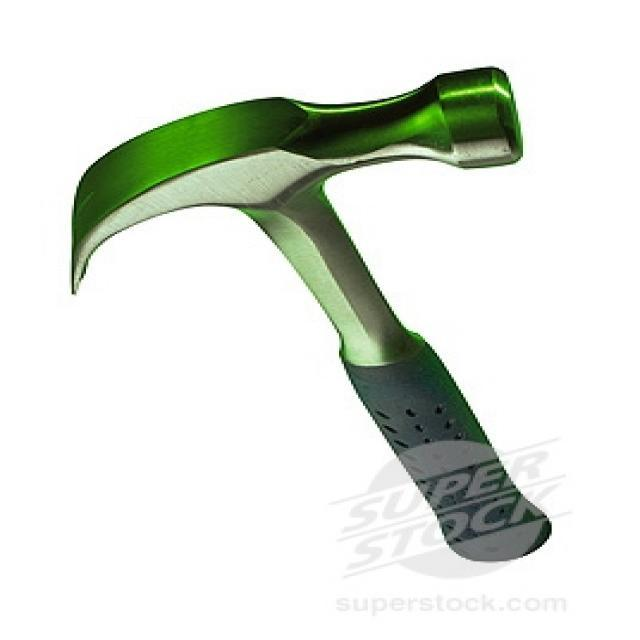hammer: (54, 53, 572, 570)
